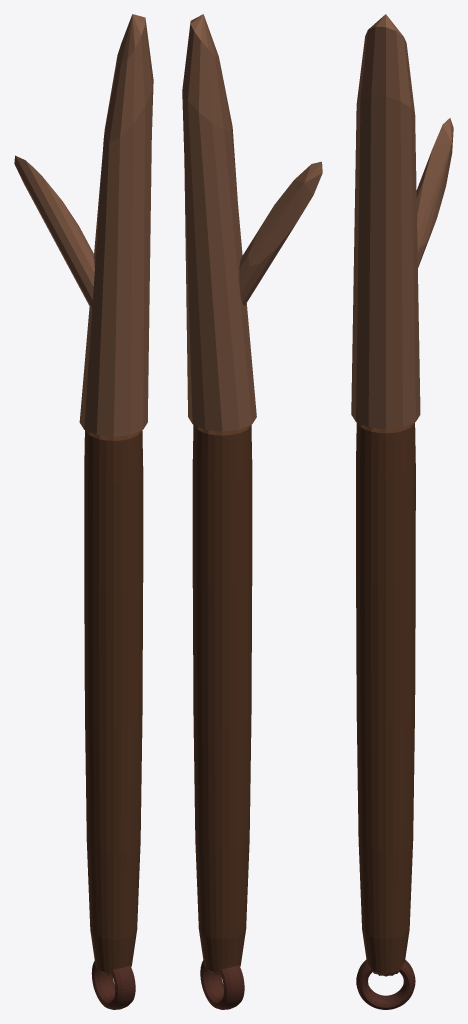
Rendered from Wand 61.glb.
3 views of the same model, side by side, from view 1: azimuth 30°, elevation 25°; view 2: azimuth 210°, elevation 25°; view 3: azimuth 270°, elevation 25° (orthographic).
Parts seen in each view (by area): view 1: GeneratedWand; view 2: GeneratedWand; view 3: GeneratedWand.
Part boxes in pixels (box(x1,y1,x2,y2)): GeneratedWand: box(14, 14, 153, 1009); GeneratedWand: box(182, 14, 322, 1009); GeneratedWand: box(351, 14, 453, 1009).
Bounding box in the file's own units: 0.0578 × 0.5039 × 0.0466.
